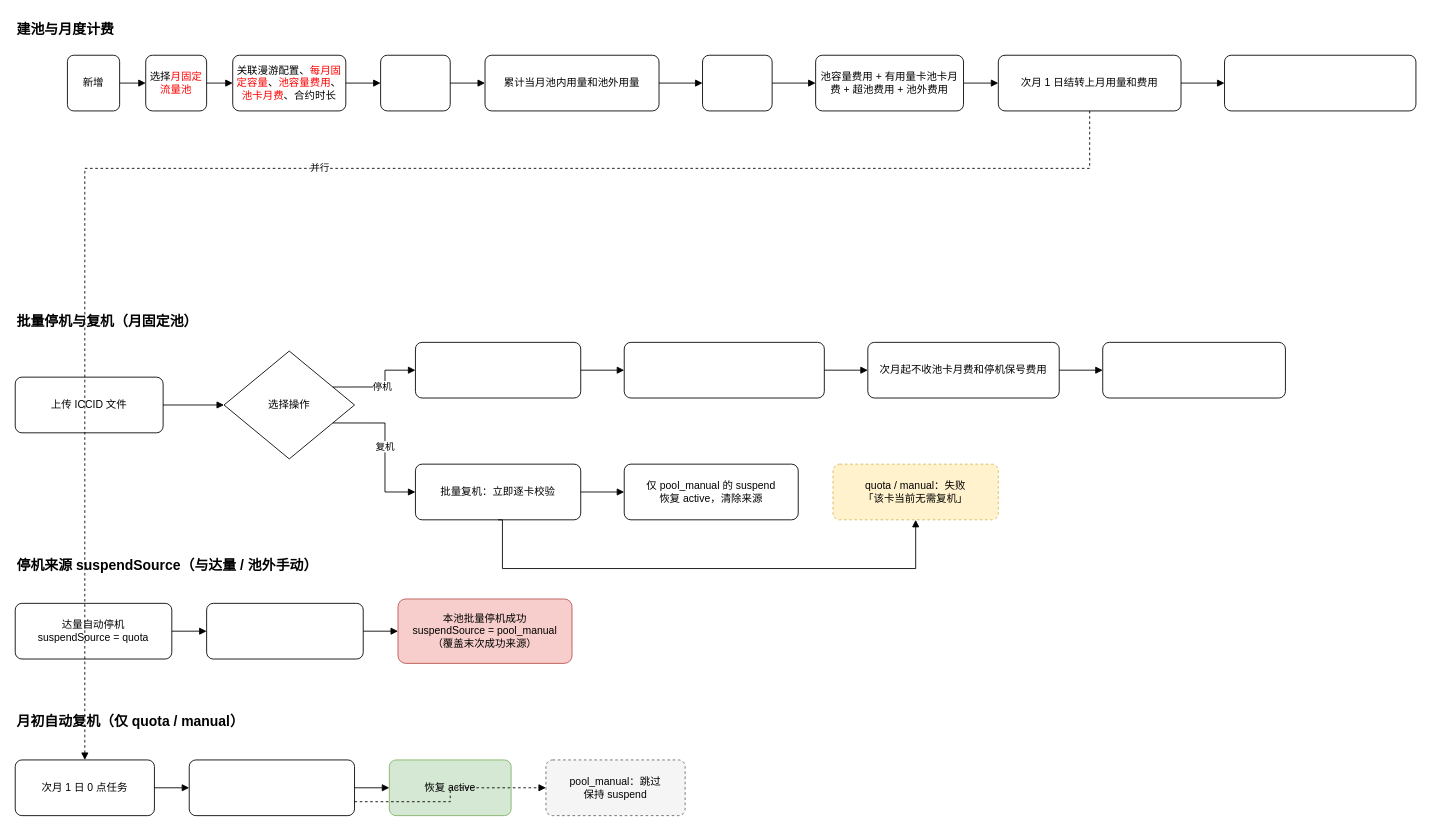
The diagram is 1431 pixels wide and 831 high, and some of its shapes have lost their labels. Each missing label, with the centre of its shape:
"pool_manual：后续月初不自动复机" goes at [1193,369].
"suspend + suspendSource=pool_manual 记入设备详情操作日志" goes at [723,369].
"卡片入池" goes at [415,82].
"恢复每月固定容量并清空月度用量" goes at [1320,82].
"批量停机：立即逐卡校验" goes at [498,369].
"月结" goes at [737,82].
"池外手动停机 suspendSource = manual" goes at [284,630].
"筛选 suspend 且 来源 quota 或 manual" goes at [271,787].
